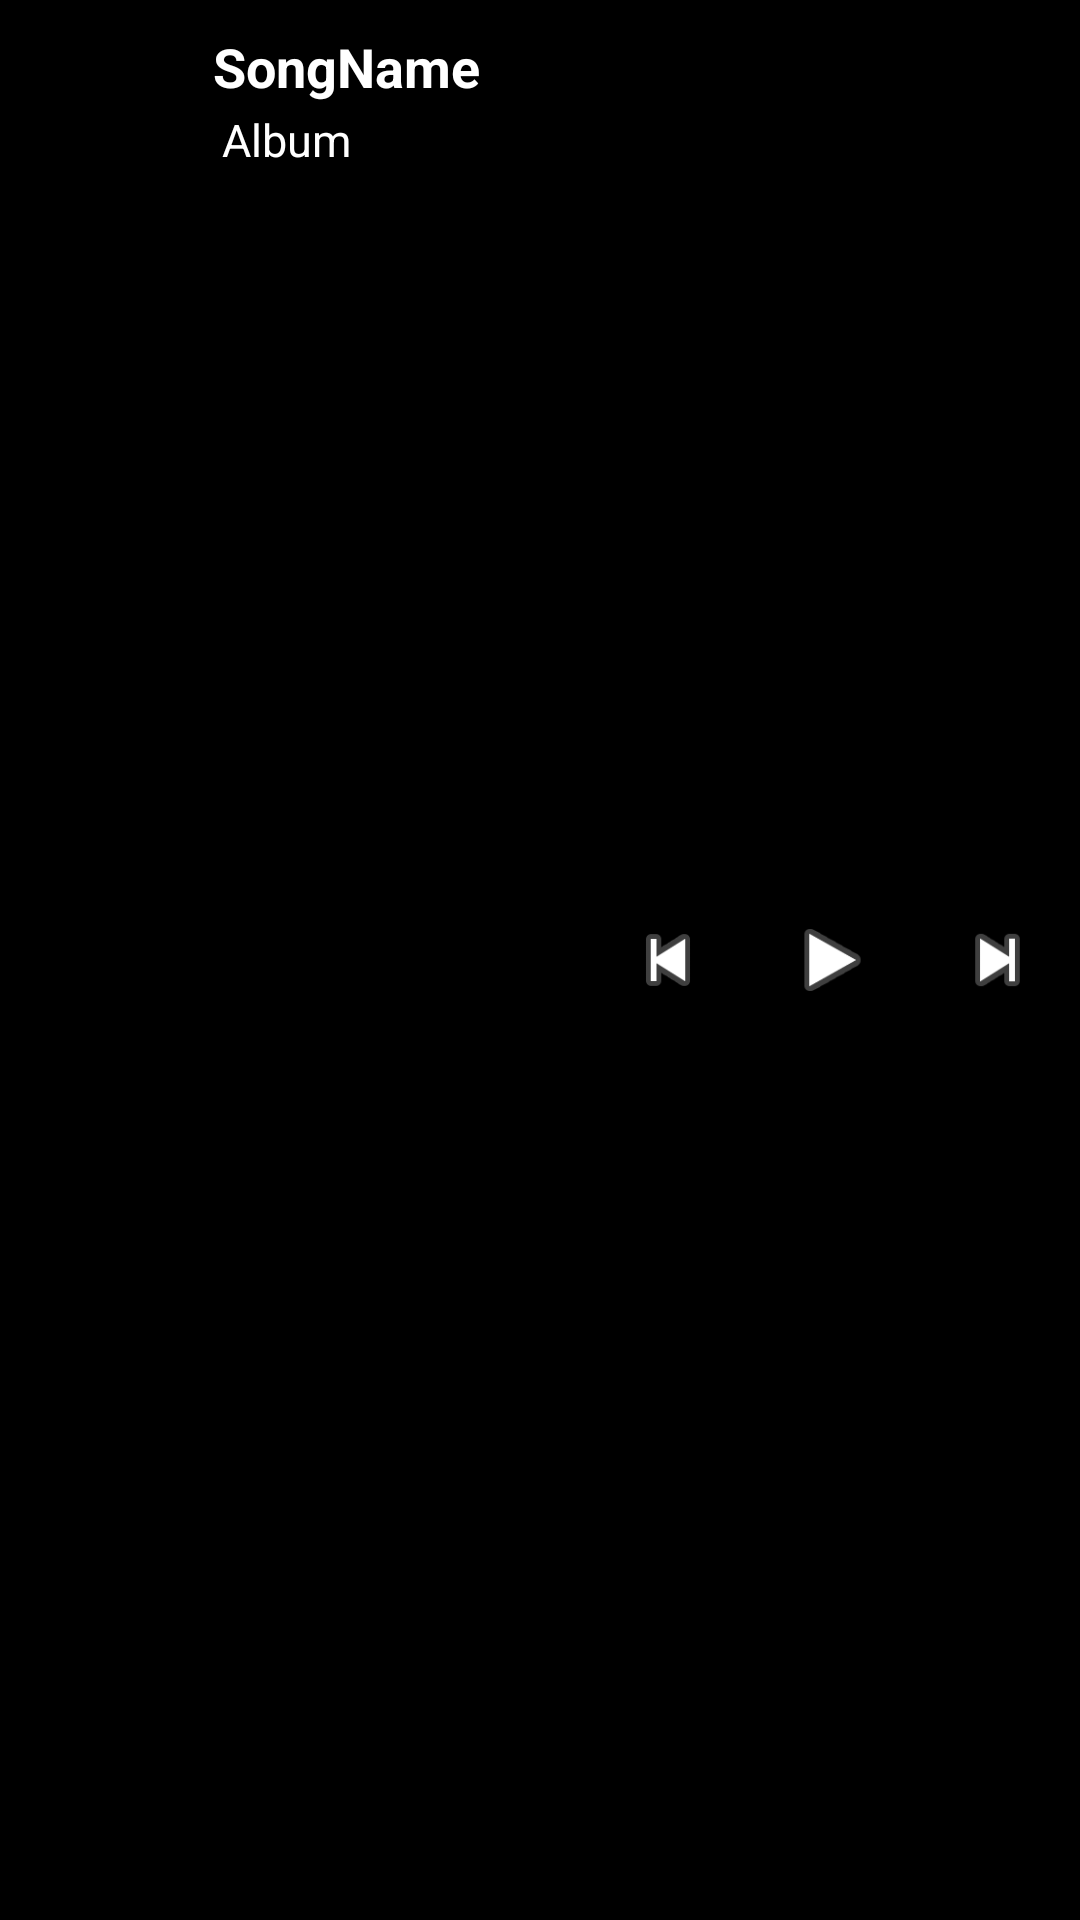

Named icons in this screenshot (1080px x 1920px) and their bounding boxes, [x1, y1, x2, y2]:
next: [975, 934, 1020, 986]
play: [804, 929, 861, 991]
previous: [646, 934, 690, 986]
